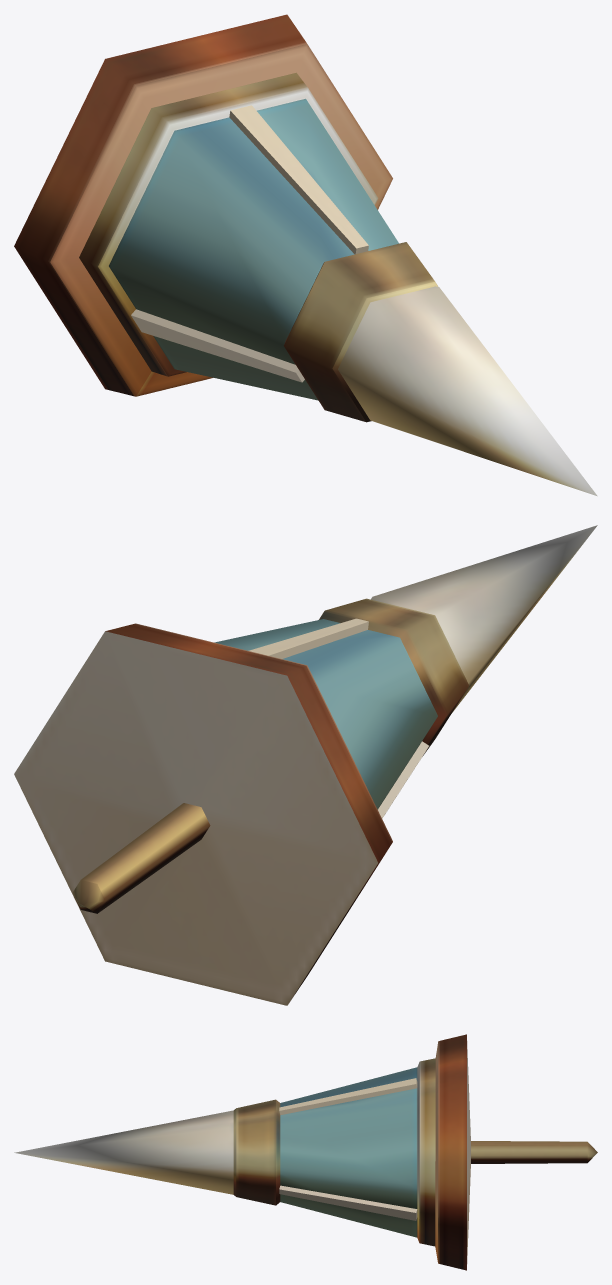
File: lancer_weapon.FBX
3 renders of one model, top to bottom at view 1: azimuth 30°, elevation 25°; view 2: azimuth 150°, elevation 25°; view 3: azimuth 270°, elevation 25°, orthographic. The views are drawn at different scales.
Parts seen in each view (by area): view 1: lancer_weapon; view 2: lancer_weapon; view 3: lancer_weapon.
Boxes of the visible parts, x1,y1,x2,y2 form: lancer_weapon: (14, 14, 597, 496); lancer_weapon: (14, 525, 597, 1005); lancer_weapon: (14, 1034, 597, 1270).
Size of the model in its own units: 74.25 by 64.3 by 183.
